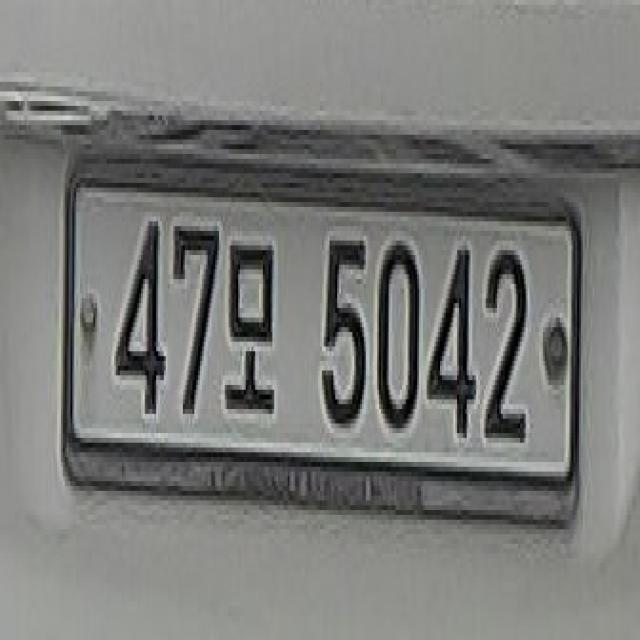0: (376, 228, 424, 456)
2: (481, 240, 534, 464)
4: (107, 210, 170, 430), (428, 230, 480, 450)
5: (317, 230, 372, 440)
7: (172, 206, 222, 430)
license_plate: (51, 129, 597, 556)
mo: (225, 226, 282, 424)
